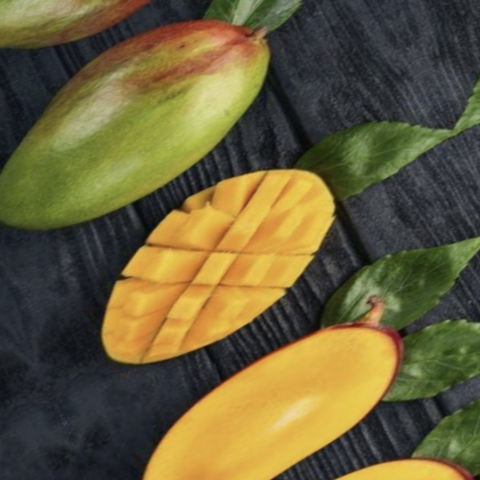mango: (14, 130, 371, 414), (0, 0, 323, 275), (96, 275, 453, 480)
